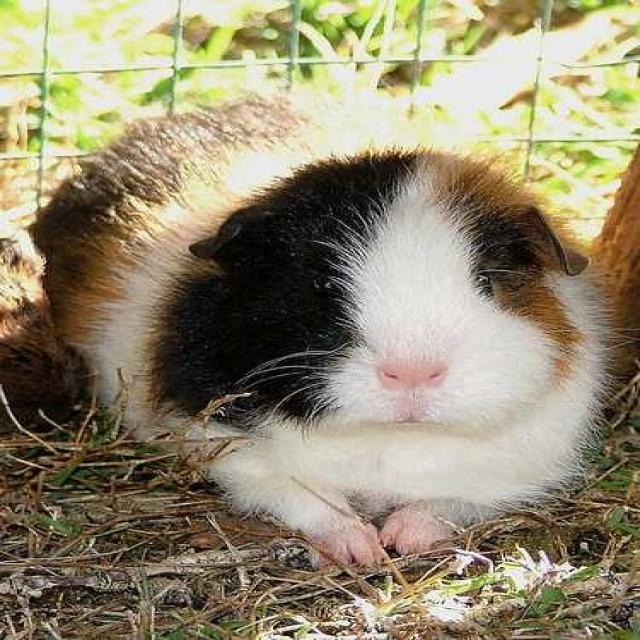guinea pig: (49, 98, 602, 562)
